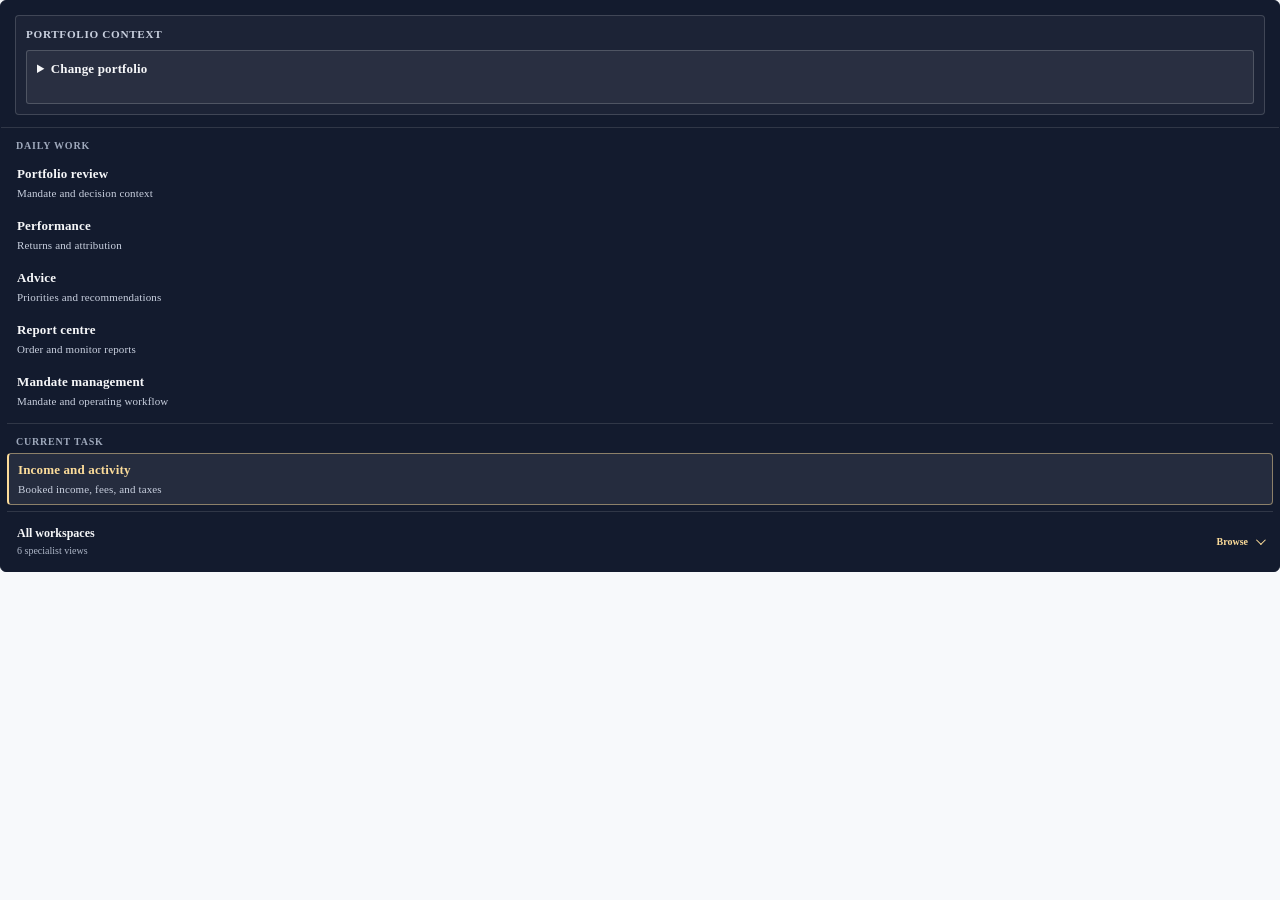
Test case: PortfolioScreenRail › reveals the grouped workspace directory and restores disclosure focus on Escape
The width and height of the screenshot is (1280, 900).
Step 1. Click the button "All workspaces 6 specialist views Browse" → (56, 533), box [7, 518, 1273, 565]
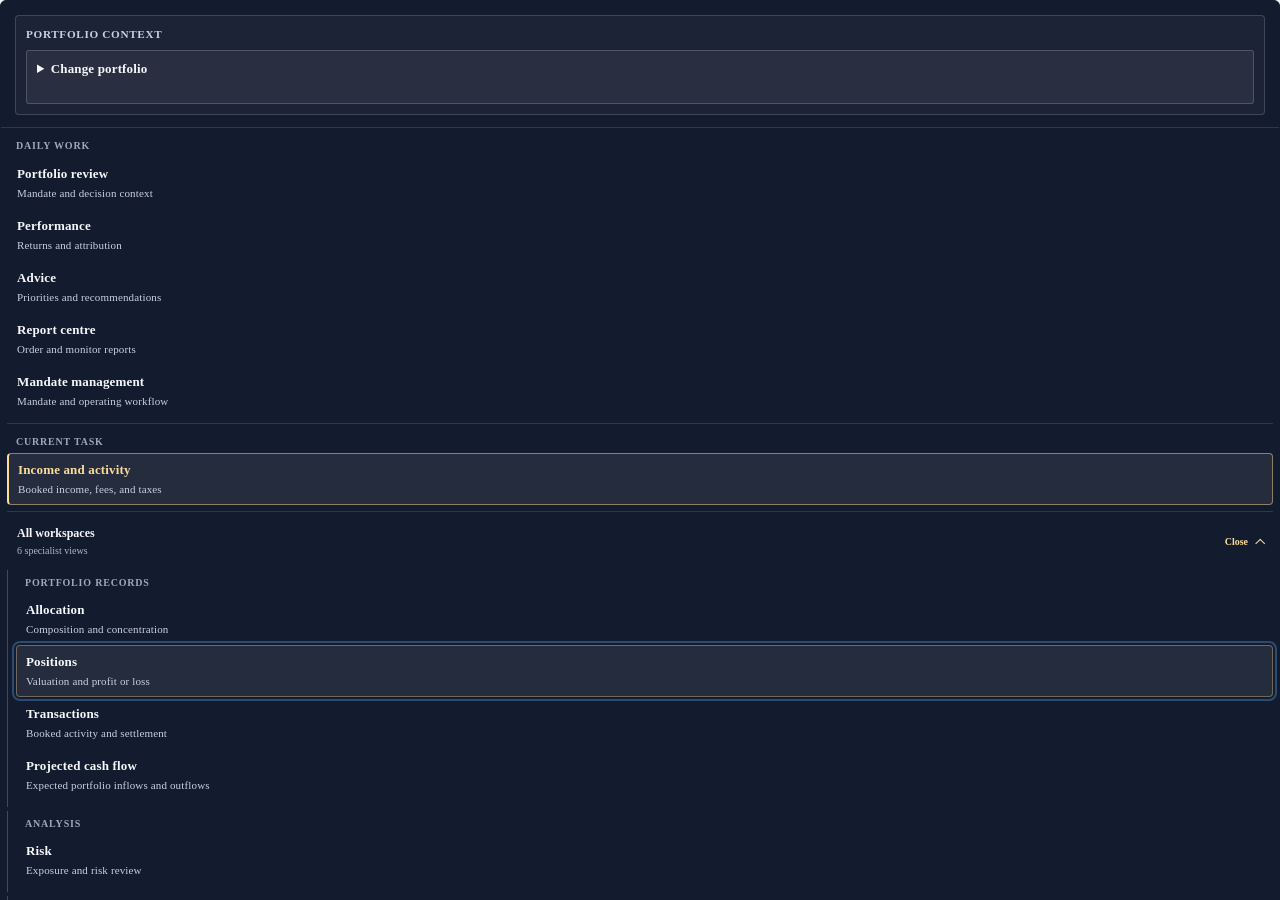
expect the button "All workspaces 6 specialist views Close" is expanded: met, box [7, 518, 1273, 565]
expect the text "Portfolio records" is shown: met, box [25, 577, 150, 588]
expect the text "Analysis" is shown: met, box [25, 818, 81, 829]
Step 2. Press Escape in the link "Positions Valuation and profit or loss", box [16, 645, 1273, 697]
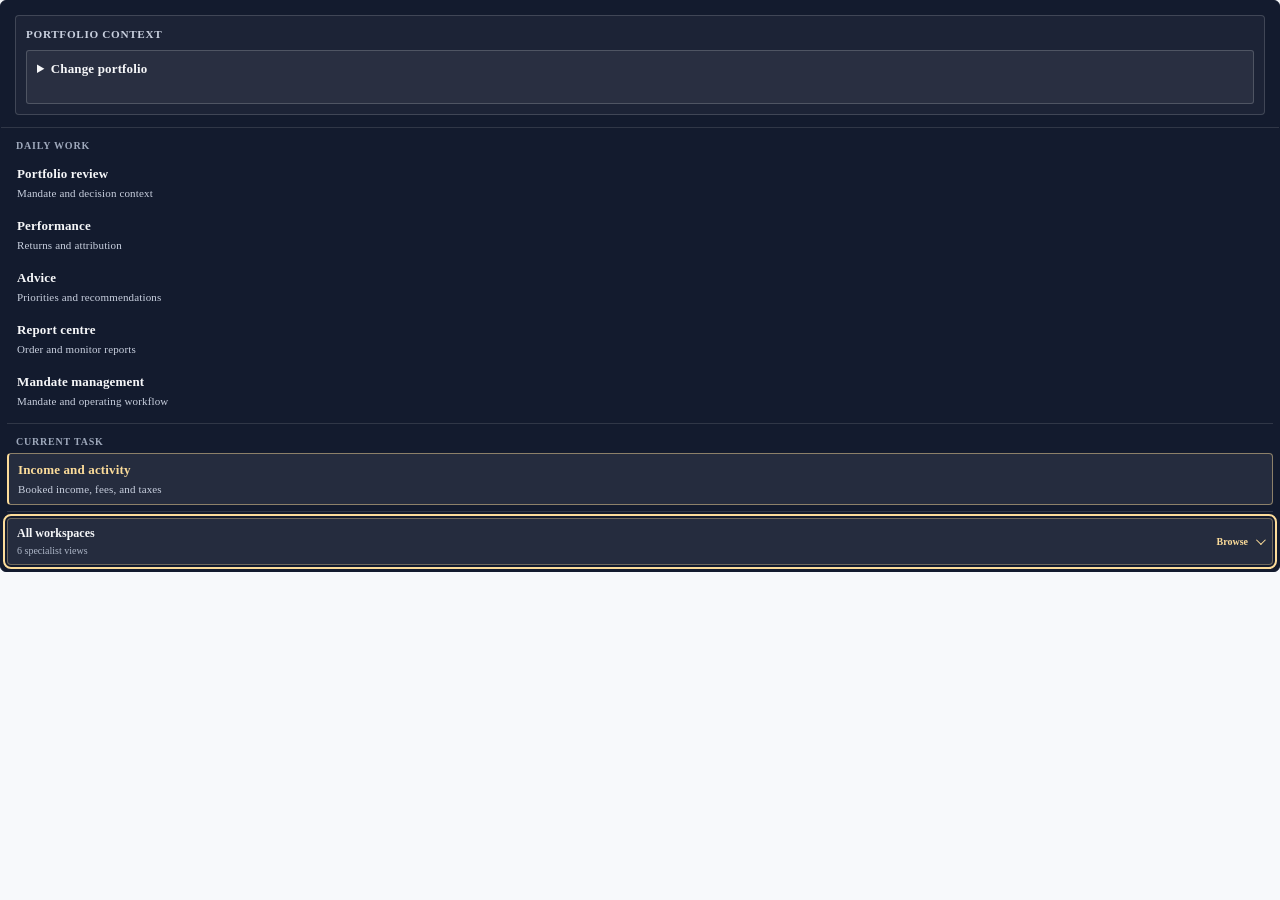
expect the button "All workspaces 6 specialist views Browse" is collapsed: met, box [7, 518, 1273, 565]
expect the link "Positions Valuation" is gone: met
